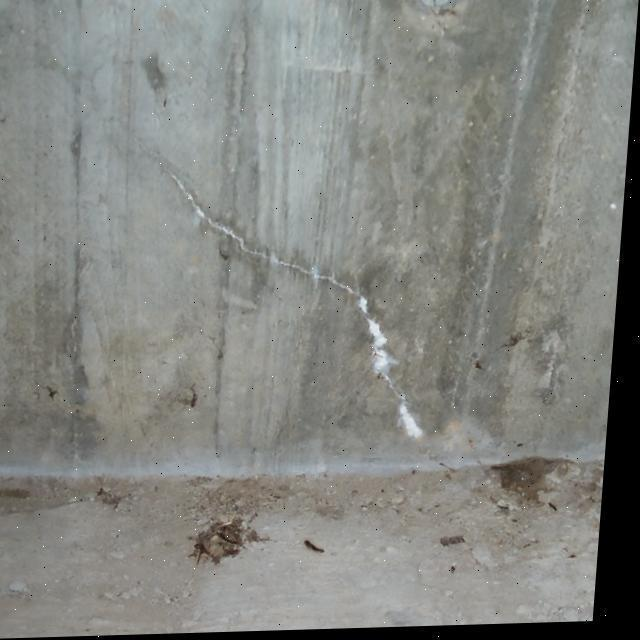D01: (170, 174, 349, 289), (358, 298, 397, 379)
